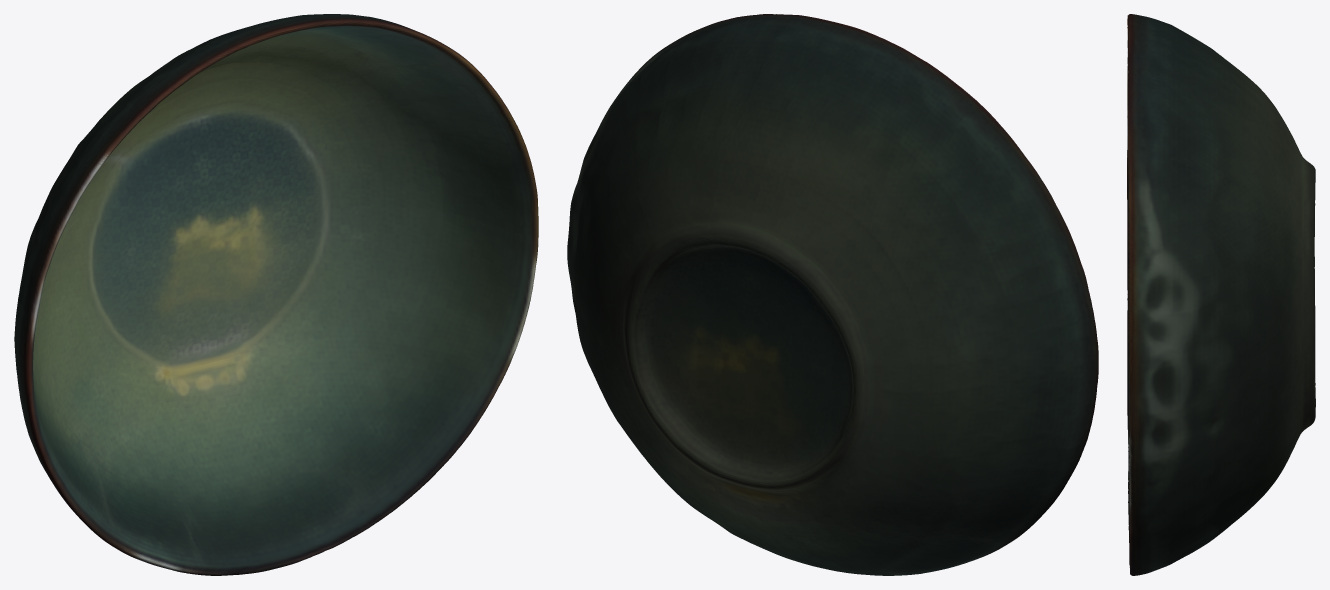
The model's file is bowl.obj.
3 views of the same model, side by side, from view 1: azimuth 30°, elevation 25°; view 2: azimuth 150°, elevation 25°; view 3: azimuth 270°, elevation 25° (orthographic). The views are drawn at different scales.
Bounding box in the file's own units: 0.1905 × 0.1905 × 0.0635.
